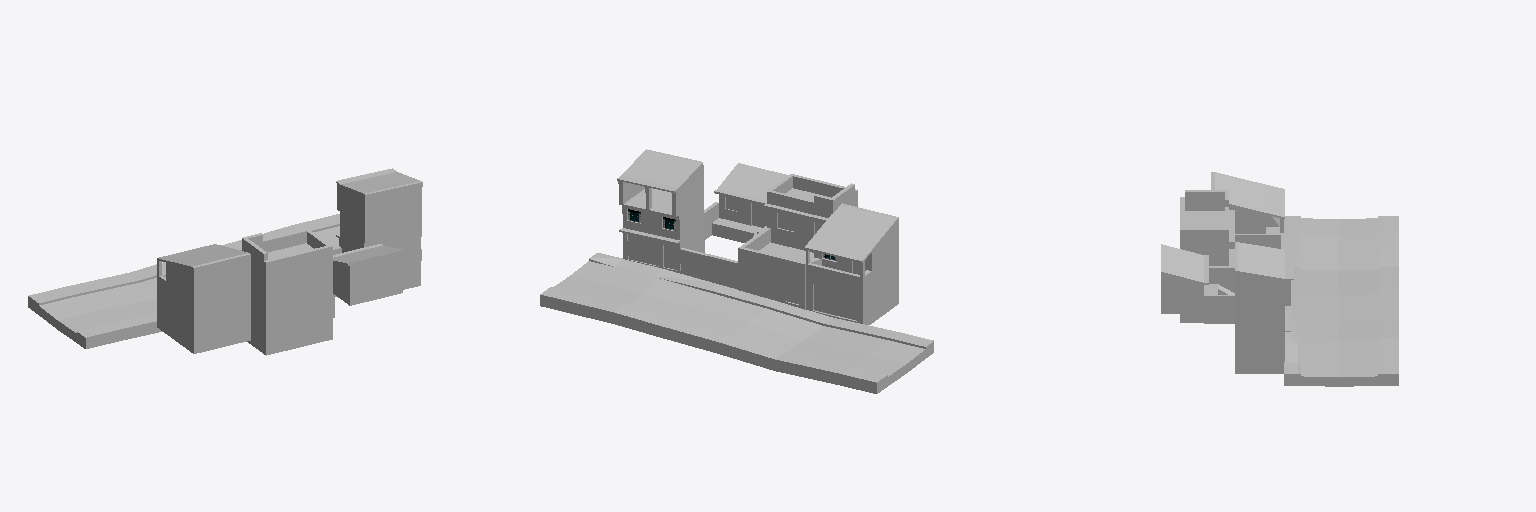
The picture shows the model from 3 angles: view 1: azimuth 30°, elevation 25°; view 2: azimuth 150°, elevation 25°; view 3: azimuth 270°, elevation 25°; orthographic projection.
Parts seen in each view (by area): view 1: Cubo.002, Cubo.003, Cube, Cubo, Cubo.001; view 2: Cube, Cubo.003, Cubo, Cubo.002, Cubo.001; view 3: Cube, Cubo, Cubo.001, Cubo.002, Cubo.003.
Part boxes in pixels (x1,y1,x2,y2): Cubo.002: (242, 229, 332, 355); Cubo.003: (157, 244, 250, 353); Cube: (28, 214, 421, 348); Cubo: (336, 168, 422, 289); Cubo.001: (333, 244, 404, 317); Cube: (540, 253, 933, 393); Cubo.003: (804, 203, 898, 324); Cubo: (617, 149, 704, 273); Cubo.002: (738, 174, 857, 309); Cubo.001: (680, 163, 787, 289); Cube: (1284, 216, 1398, 386); Cubo: (1235, 242, 1293, 373); Cubo.001: (1161, 244, 1234, 323); Cubo.002: (1180, 190, 1284, 322); Cubo.003: (1211, 172, 1284, 233).
Size of the model in its own units: 48.59 by 15.54 by 29.7.
Materials: 40 (1 with a texture image).